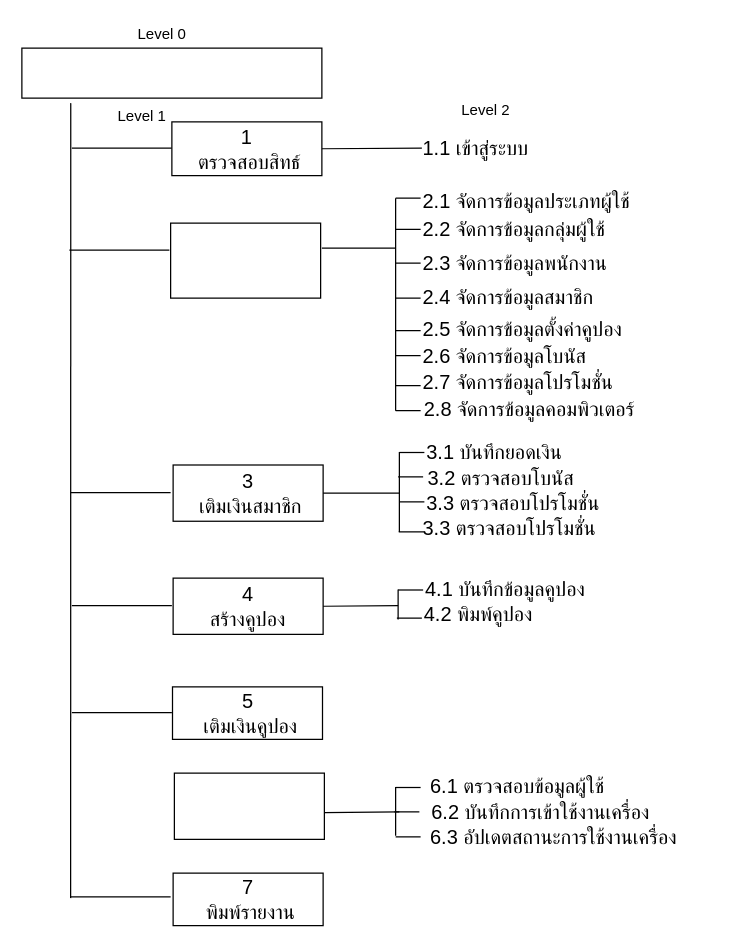
This 731x948 diagram has some shape labels left out. Each missing label, with the centre of its shape:
"2 จัดการข้อมูลพื้นฐาน" belongs at [245,260].
"6 การใช้งานเครื่องคอมพิวเตอร์" belongs at [248,805].
"ระบบจัดการร้านอินเทอร์เน็ต" belongs at [171,72].
